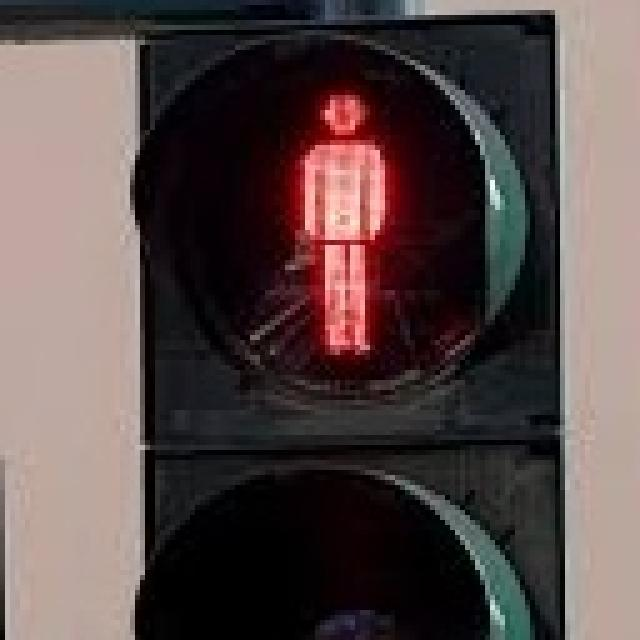red_light: (255, 60, 425, 370)
